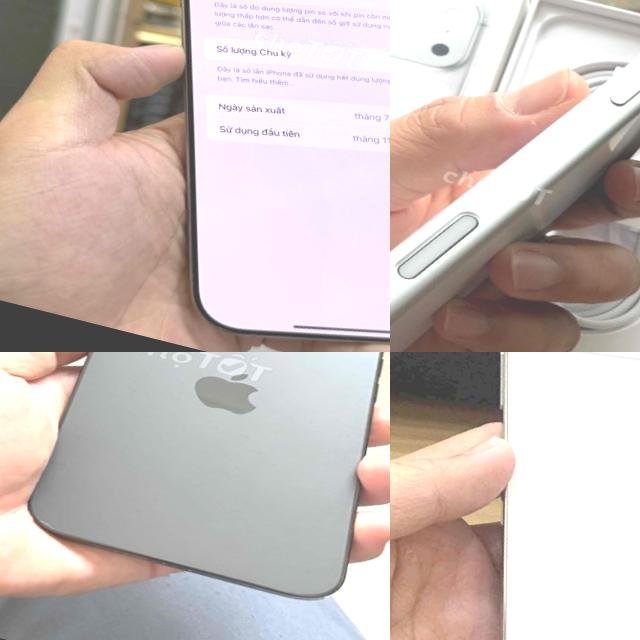gen_14: (17, 352, 390, 617), (390, 352, 640, 640)
gen_16: (52, 0, 390, 352)
gen_17: (390, 53, 640, 352), (390, 54, 640, 352)
